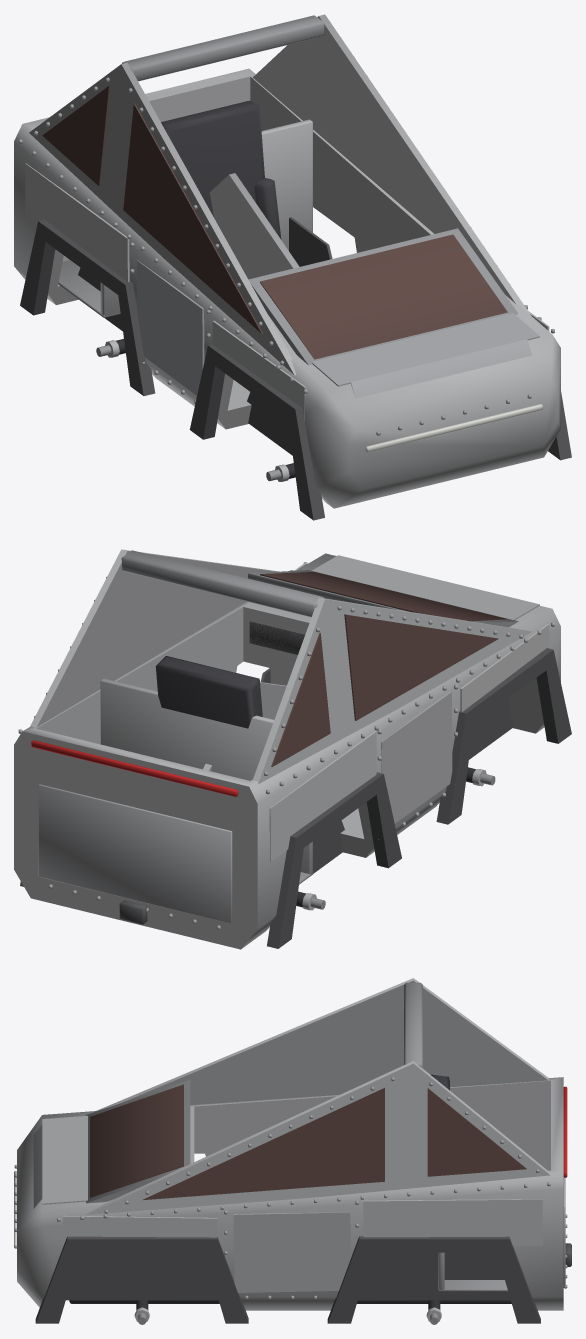
Rendered from steeltruck.glb.
3 renders of one model, top to bottom at view 1: azimuth 30°, elevation 25°; view 2: azimuth 150°, elevation 25°; view 3: azimuth 270°, elevation 25°, orthographic. The views are drawn at different scales.
Visible parts, largest first — view 1: steeltruck, steeltruck_sig; view 2: steeltruck, steeltruck_sig; view 3: steeltruck.
Boxes of the visible parts, x1,y1,x2,y2 form: steeltruck: (14,14,571,520); steeltruck_sig: (209,173,299,279); steeltruck: (14,549,571,949); steeltruck_sig: (203,682,286,771); steeltruck: (14,978,571,1324).
Bounding box in the file's own units: 1.23 × 1.38 × 2.68.
